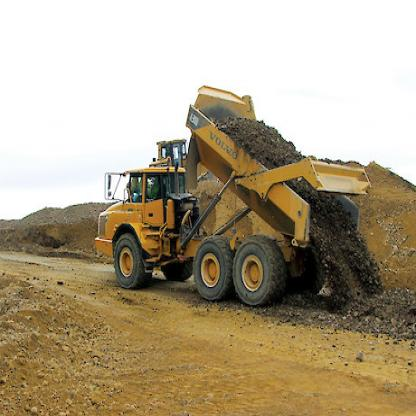dump_truck: (95, 58, 379, 307)
